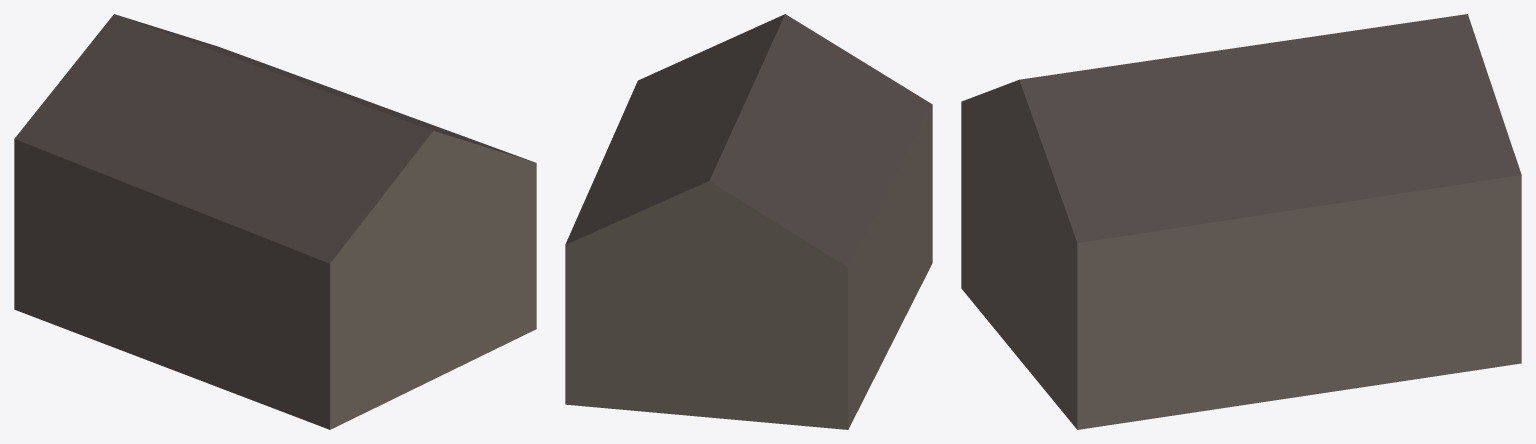
3 views of the same model, side by side, from view 1: azimuth 30°, elevation 25°; view 2: azimuth 150°, elevation 25°; view 3: azimuth 270°, elevation 25° (orthographic). The views are drawn at different scales.
Visible parts, largest first — view 1: HP-w1198842487; view 2: HP-w1198842487; view 3: HP-w1198842487.
Part boxes in pixels (x1=…): HP-w1198842487: x1=14, y1=14, x2=536, y2=429; HP-w1198842487: x1=565, y1=14, x2=932, y2=429; HP-w1198842487: x1=961, y1=14, x2=1521, y2=429.
Size of the model in its own units: 14.04 by 8.98 by 16.32.
